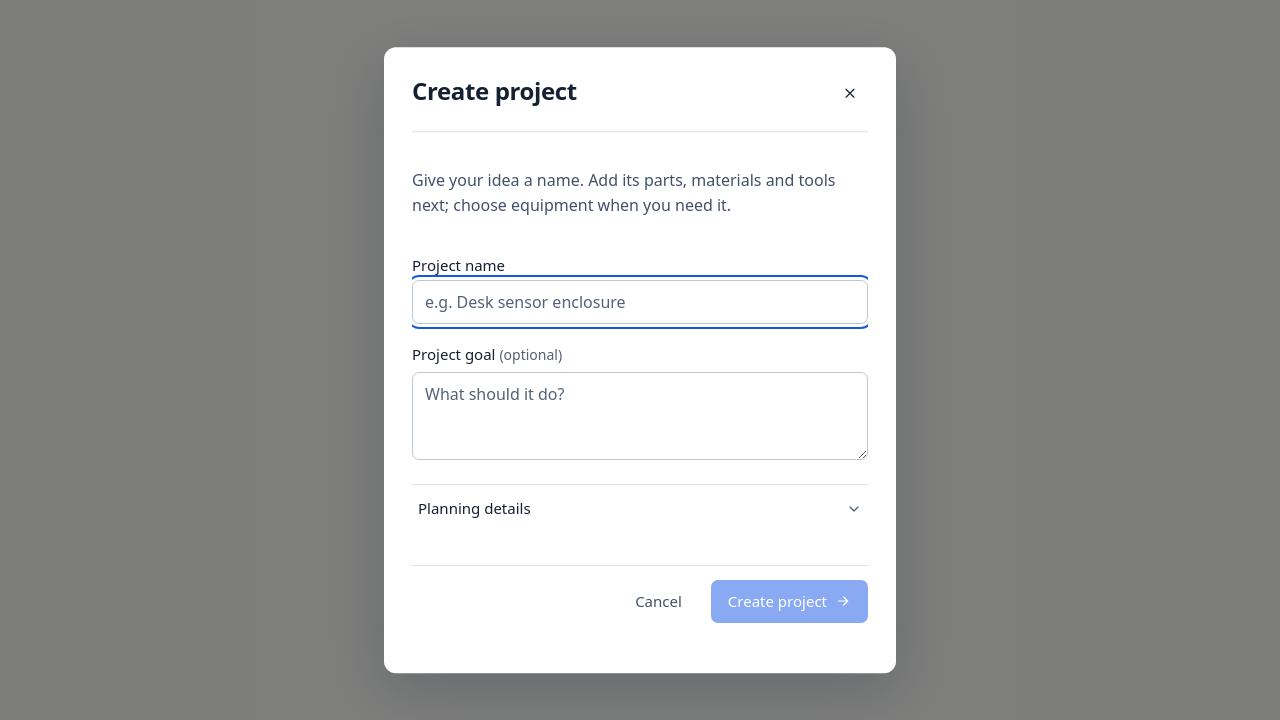
Scenario: retains an unconfirmed project creation for recovery rather than discarding it
Step 1. Type "Synthetic project" into the field labelled "Project name" → (640, 302), box [412,280,868,324]
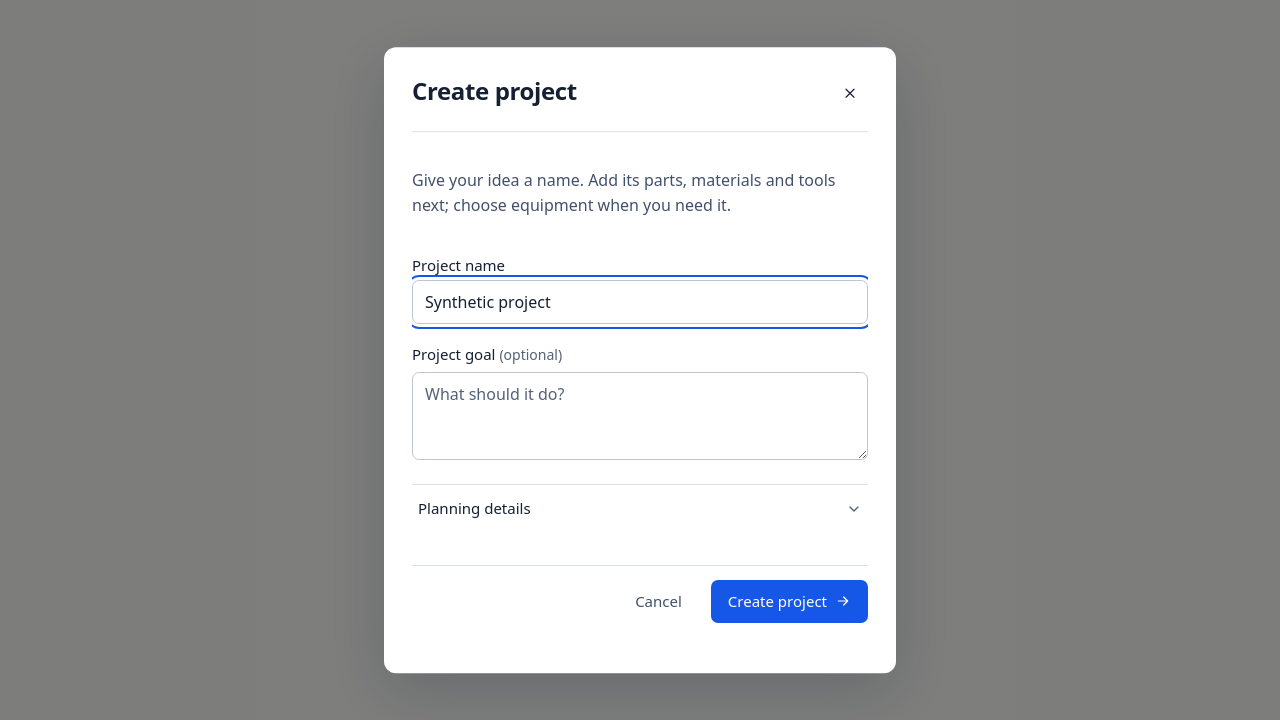
Step 2. Type "Check acknowledgement" into the text box labelled "Project goal" → (640, 416), box [412,372,868,460]
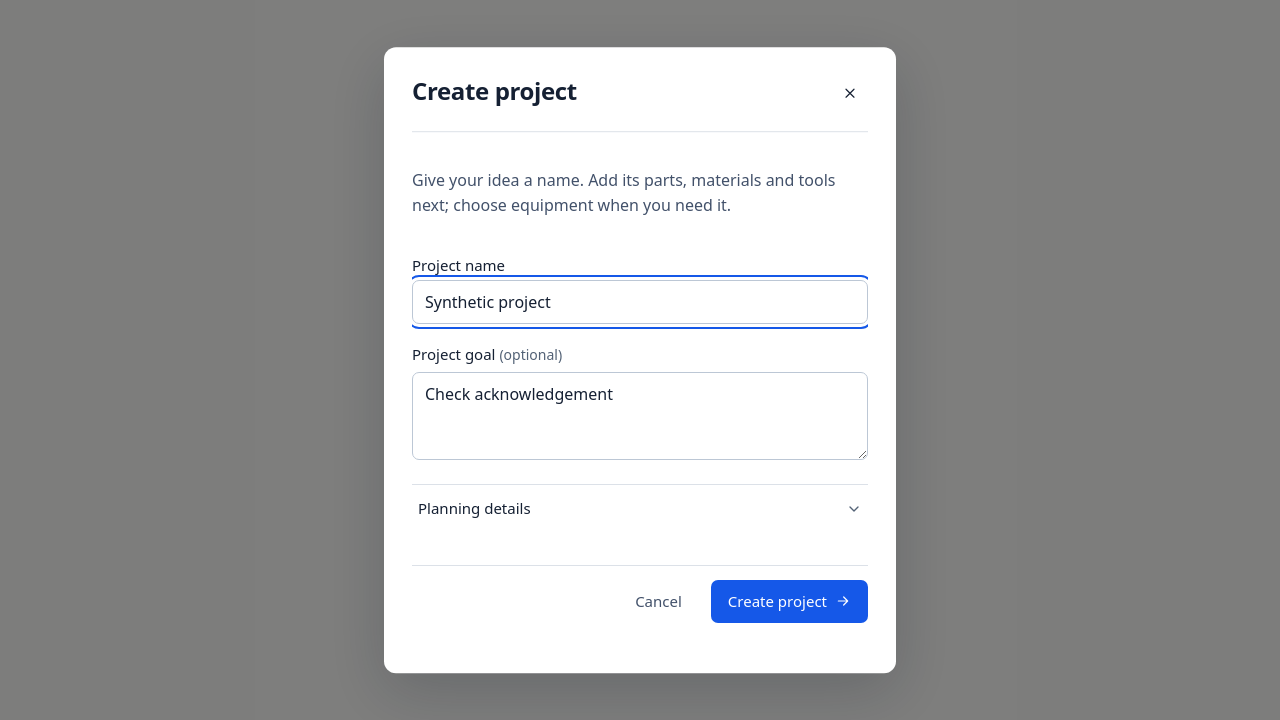
Step 3. Click the button "Create project" → (789, 601), box [711,580,868,623]
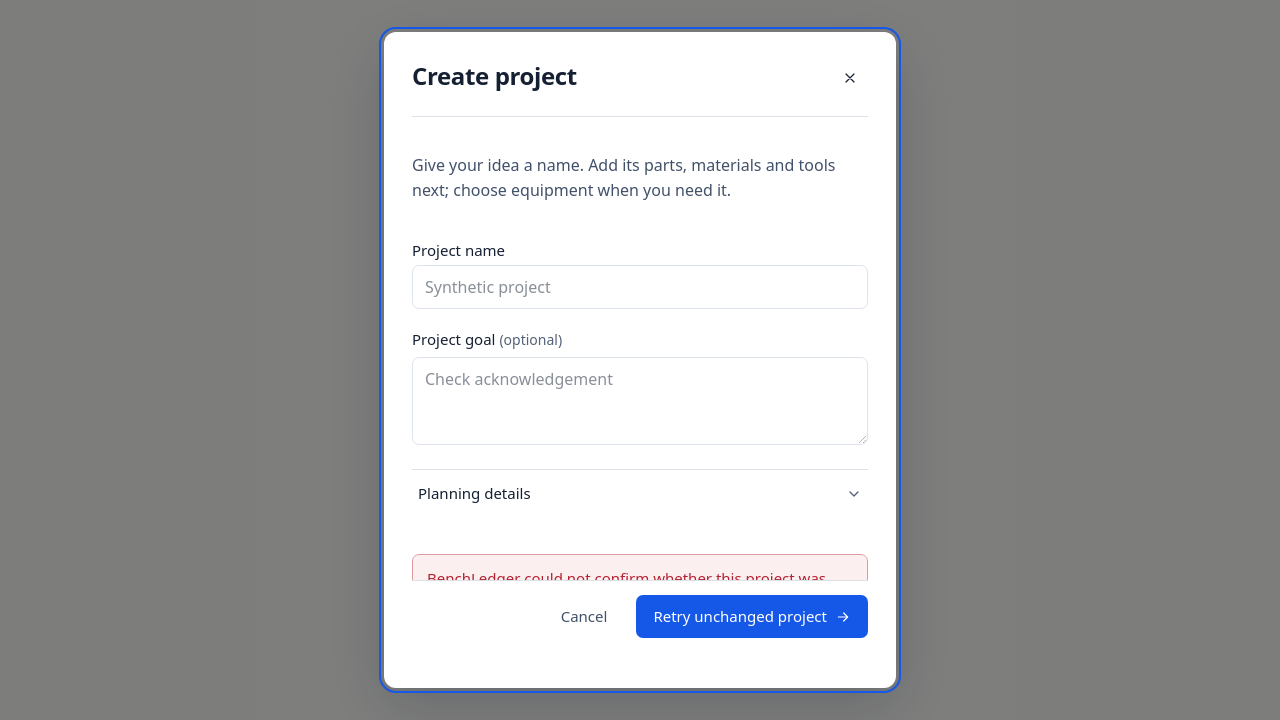
Check: the message is shown, box [412,554,868,647]
Step 4. Click the button "Cancel" → (584, 616), box [544,595,624,638]
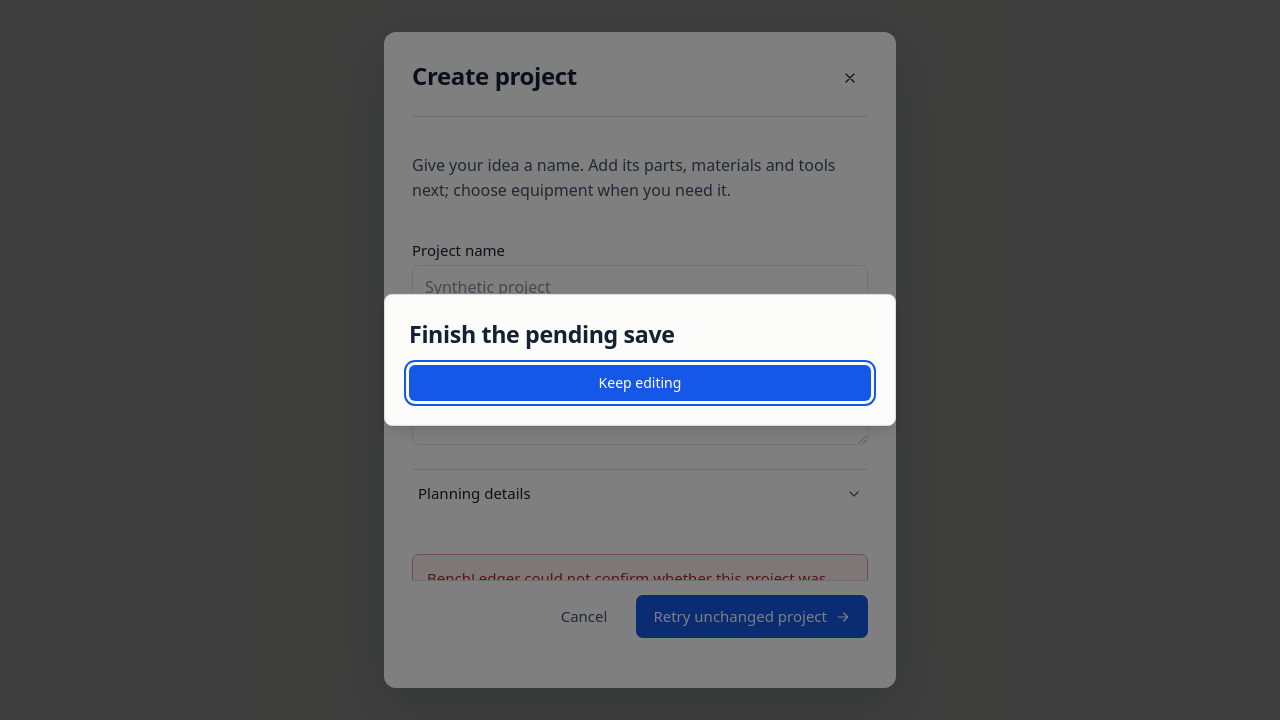
Check: the dialog "Finish the pending save" is shown, box [384,294,896,426]
